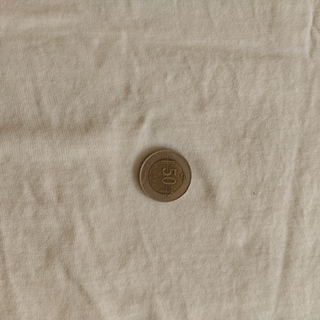50KURUS: (136, 146, 192, 203)
